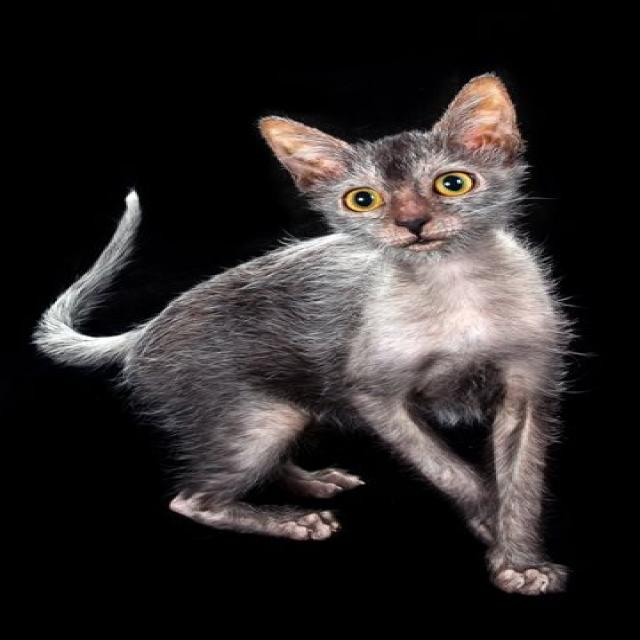Lykoi: (29, 67, 580, 602)
